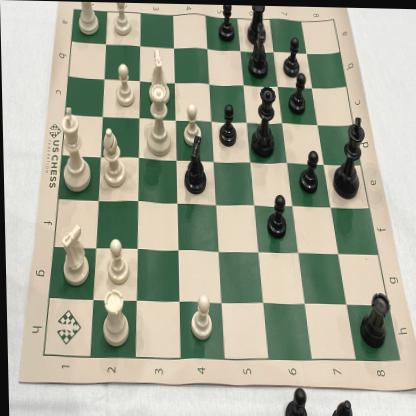black-king: (326, 112, 368, 202)
black-knight: (180, 132, 210, 196), (244, 22, 273, 80)
black-pawn: (264, 190, 290, 240), (298, 144, 320, 196), (215, 100, 238, 148), (287, 70, 308, 116), (282, 34, 302, 78), (216, 4, 238, 44)
black-queen: (245, 84, 279, 162)
black-rook: (356, 280, 390, 349), (244, 5, 268, 44)
white-bishop: (98, 123, 127, 191)
white-king: (54, 104, 91, 196)
white-pawn: (186, 290, 212, 344), (104, 235, 130, 287), (112, 60, 138, 110), (180, 100, 202, 148), (110, 2, 133, 37)
white-queen: (141, 81, 175, 158)
white-rook: (56, 220, 91, 288), (95, 285, 130, 349), (144, 43, 172, 104), (72, 1, 102, 37)
